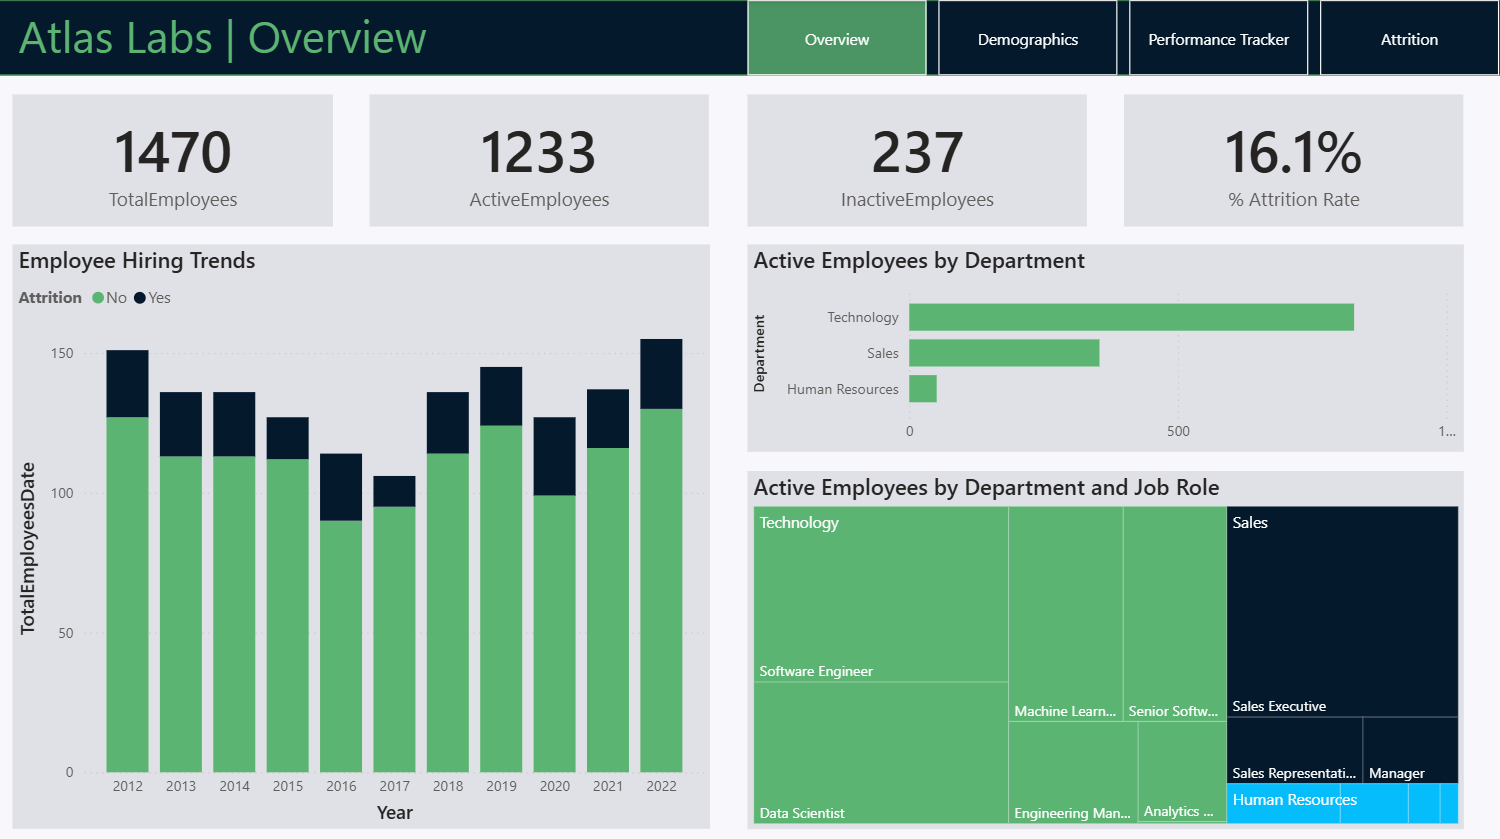

Layout of this report page (visuals, bound fields, positions):
{"tool":"powerbi","page":{"name":"Overview","canvas":[1280,720],"ordinal":0},"visuals":[{"type":"card","fields":{"Values":["_Measures.TotalEmployees"]},"box":[16,80,272,112],"z":0},{"type":"card","fields":{"Values":["_Measures.ActiveEmployees"]},"box":[320,80,288,112],"z":1000},{"type":"card","fields":{"Values":["_Measures.InactiveEmployees"]},"box":[640,80,288,112],"z":2000},{"type":"card","fields":{"Values":["_Measures.% Attrition Rate"]},"box":[960,80,288,112],"z":3000},{"type":"columnChart","title":"Employee Hiring Trends","fields":{"Category":["DimDate.Date.Variation.Date Hierarchy.Year","DimDate.Date.Variation.Date Hierarchy.Quarter","DimDate.Date.Variation.Date Hierarchy.Month","DimDate.Date.Variation.Date Hierarchy.Day"],"Y":["_Measures.TotalEmployeesDate"],"Series":["DimEmployee.Attrition"]},"box":[16,208,592,496],"z":4000},{"type":"clusteredBarChart","title":"Active Employees by Department","fields":{"Category":["DimEmployee.Department"],"Y":["_Measures.ActiveEmployees"]},"box":[640,208,608,176],"z":5000},{"type":"treemap","title":"Active Employees by Department and Job Role","fields":{"Values":["_Measures.ActiveEmployees"],"Group":["DimEmployee.Department"],"Details":["DimEmployee.JobRole"]},"box":[640,400,608,304],"z":6000},{"type":"shape","box":[0,0,1280,64],"z":7000},{"type":"textbox","box":[16,0,448,64],"z":8000},{"type":"pageNavigator","box":[640,0,640,64],"z":9000}]}

Visuals, with their boxes in screenshot pixels (x1, y1, x2, y2), scaled from the page's 1280x720 canvas onto the 1500x839 screenshot:
card - _Measures.TotalEmployees: x1=19 y1=93 x2=338 y2=224
card - _Measures.ActiveEmployees: x1=375 y1=93 x2=712 y2=224
card - _Measures.InactiveEmployees: x1=750 y1=93 x2=1088 y2=224
card - _Measures.% Attrition Rate: x1=1125 y1=93 x2=1462 y2=224
"Employee Hiring Trends" columnChart: x1=19 y1=242 x2=712 y2=820
"Active Employees by Department" clusteredBarChart: x1=750 y1=242 x2=1462 y2=447
"Active Employees by Department and Job Role" treemap: x1=750 y1=466 x2=1462 y2=820
shape: x1=0 y1=0 x2=1499 y2=75
textbox: x1=19 y1=0 x2=544 y2=75
pageNavigator: x1=750 y1=0 x2=1499 y2=75
